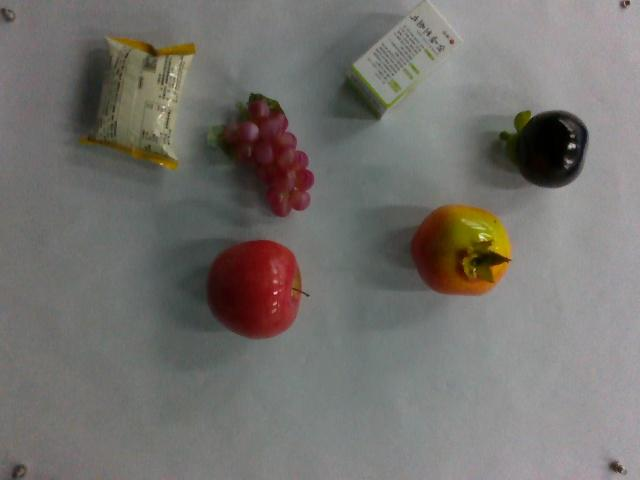apple: (206, 239, 310, 340)
carton: (348, 3, 464, 117)
dessert: (84, 37, 197, 169)
grape: (216, 96, 314, 219)
mangosteen: (501, 108, 590, 192)
pomegranate: (409, 205, 515, 299)
